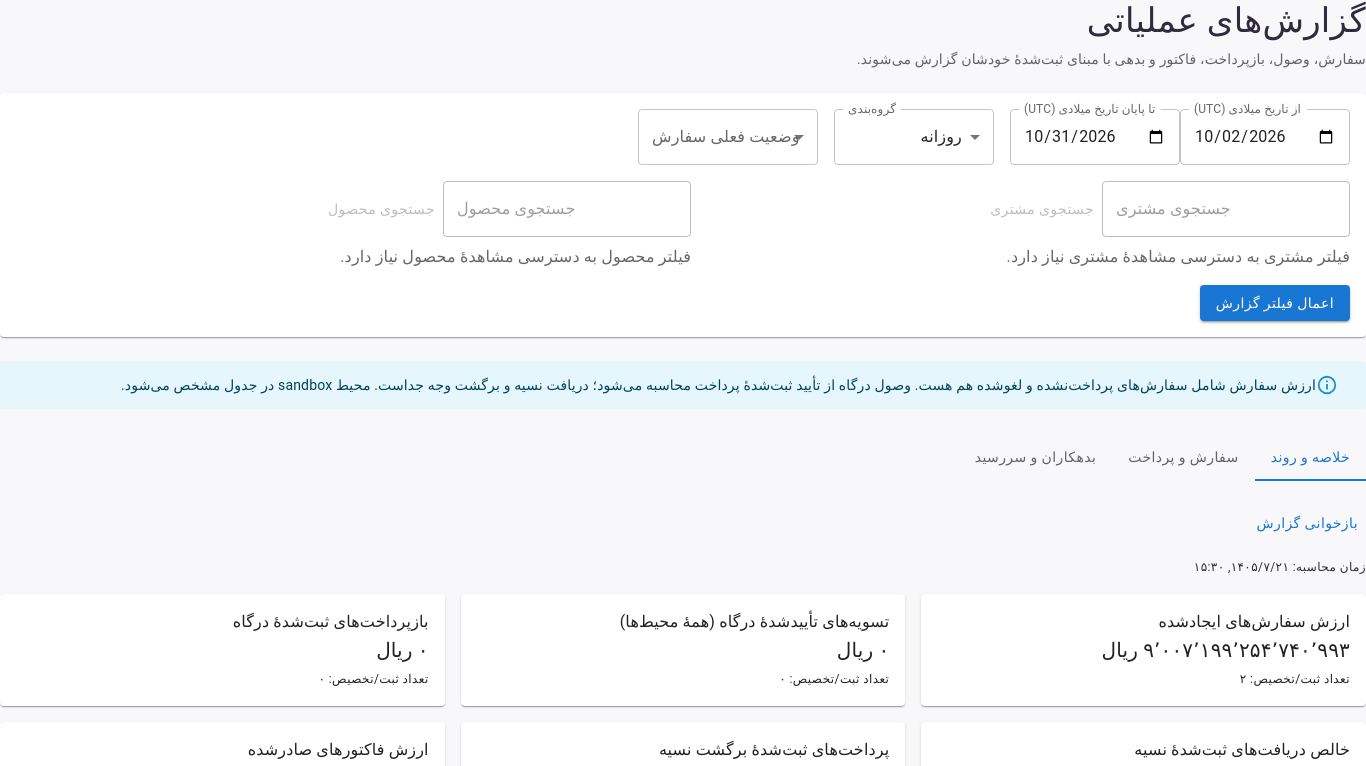
Test: Operational Admin reports contract and states › shows debtor empty and authoritative aging only with the separate permission
The width and height of the screenshot is (1366, 766).
Click the tab "بدهکاران و سررسید" at (1036, 457), box [959,433,1112,481]
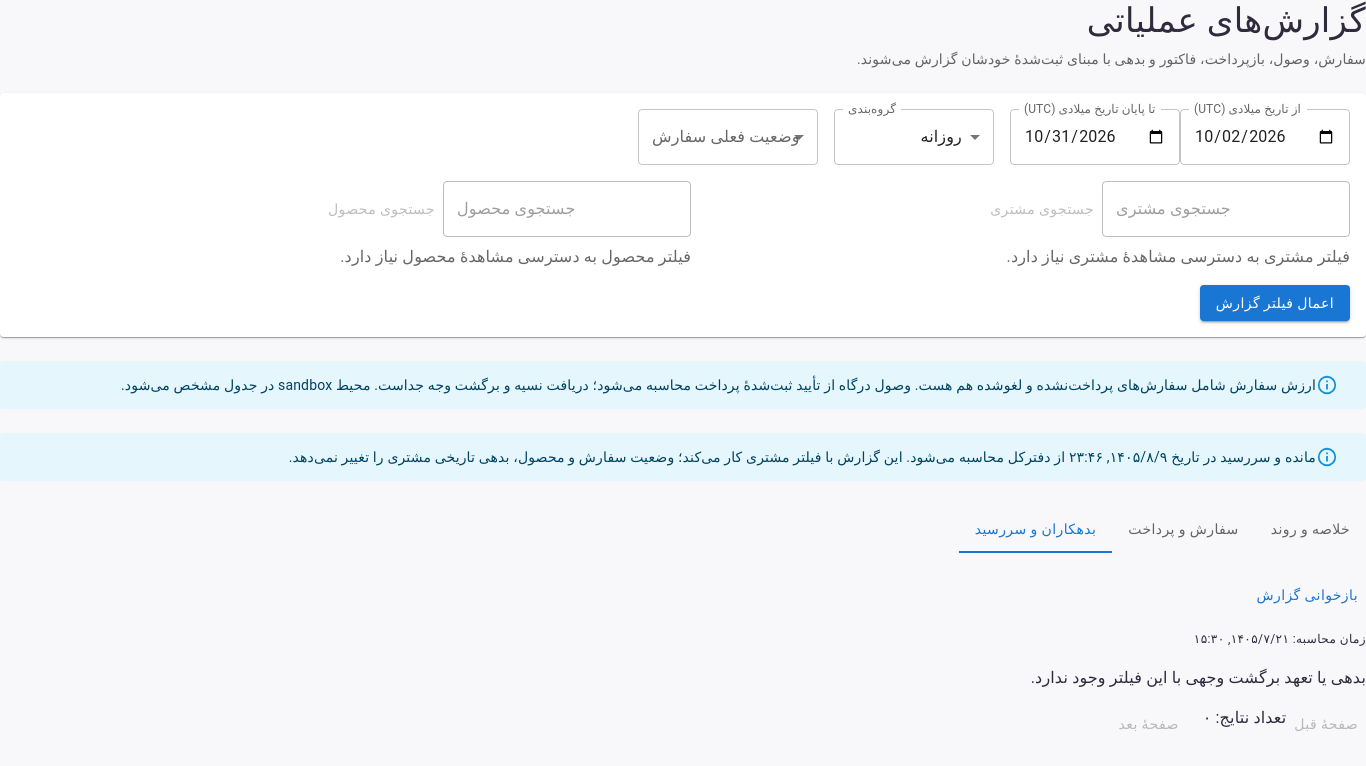
Expected: the text "بدهی یا تعهد برگشت وجهی با این فیلتر وجود ندارد." is shown, [1031,668,1365,687]
